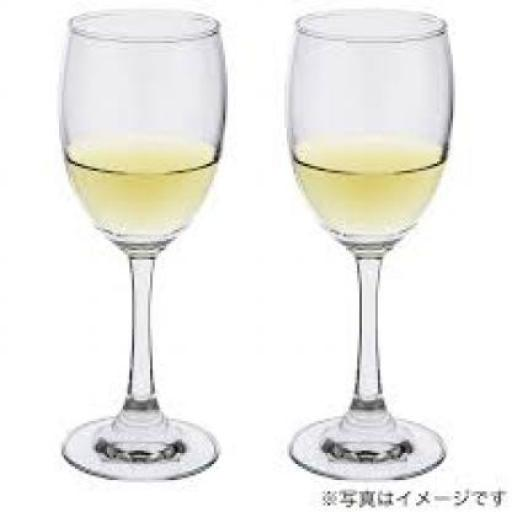glass: (56, 7, 228, 478), (284, 5, 450, 480)
